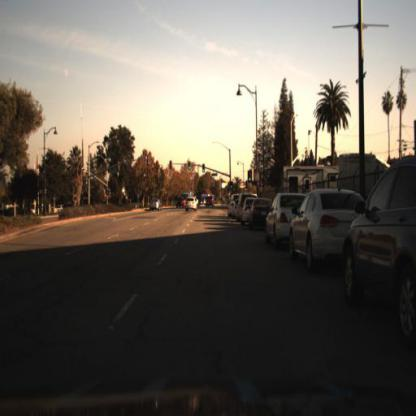car: (342, 154, 416, 346), (289, 190, 369, 269), (263, 187, 309, 254), (247, 197, 275, 232), (148, 192, 166, 214), (175, 193, 189, 213), (185, 194, 199, 214), (150, 197, 163, 215), (203, 194, 217, 209)
trafficLight-Green: (247, 165, 255, 189), (247, 173, 255, 186), (187, 165, 193, 175), (230, 182, 235, 194), (202, 166, 207, 177)
trafficLight-RedLeft: (168, 159, 174, 170)
